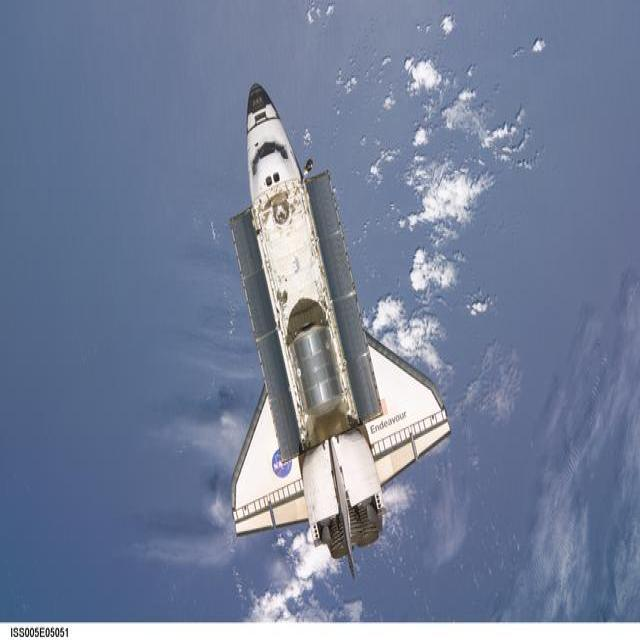medium_debris: (231, 85, 450, 564)
